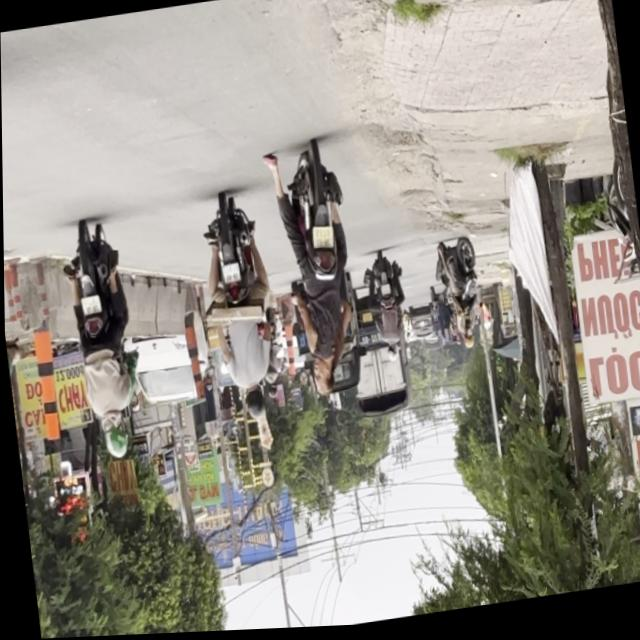helmet: (98, 416, 129, 463), (240, 381, 266, 424)
licenseplate: (266, 140, 367, 416), (189, 191, 284, 430), (56, 218, 145, 468)
motorcyclist: (308, 352, 338, 401)
nohelmet: (310, 227, 334, 254), (79, 296, 100, 318), (220, 264, 239, 287)
